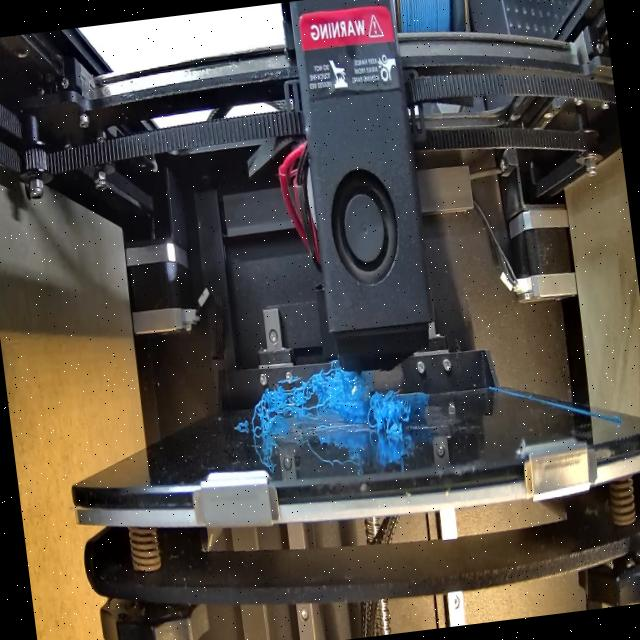spaghetti: (243, 370, 368, 436), (368, 394, 413, 437)
